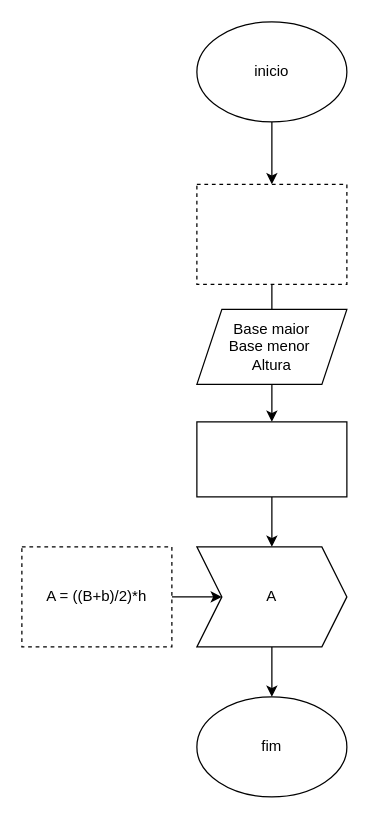
Some shapes in this 369 by 819 pixel diagram are drawn without their labels. The shapes that lost their labels are listed below. From the top down, each one's box as (x1, y1, x2, y2) in pixels, then its label:
(196, 183, 347, 284): B = base maior b = base menor h = altura
(196, 421, 347, 497): ((B+b)/2)*h
